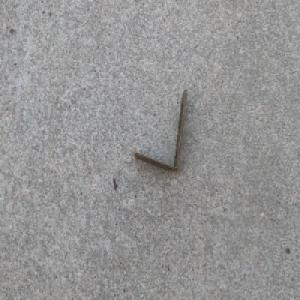MetalPart: (132, 88, 187, 174)
